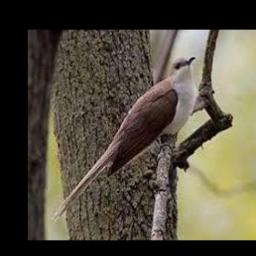Cuckoo: (51, 56, 196, 223)
